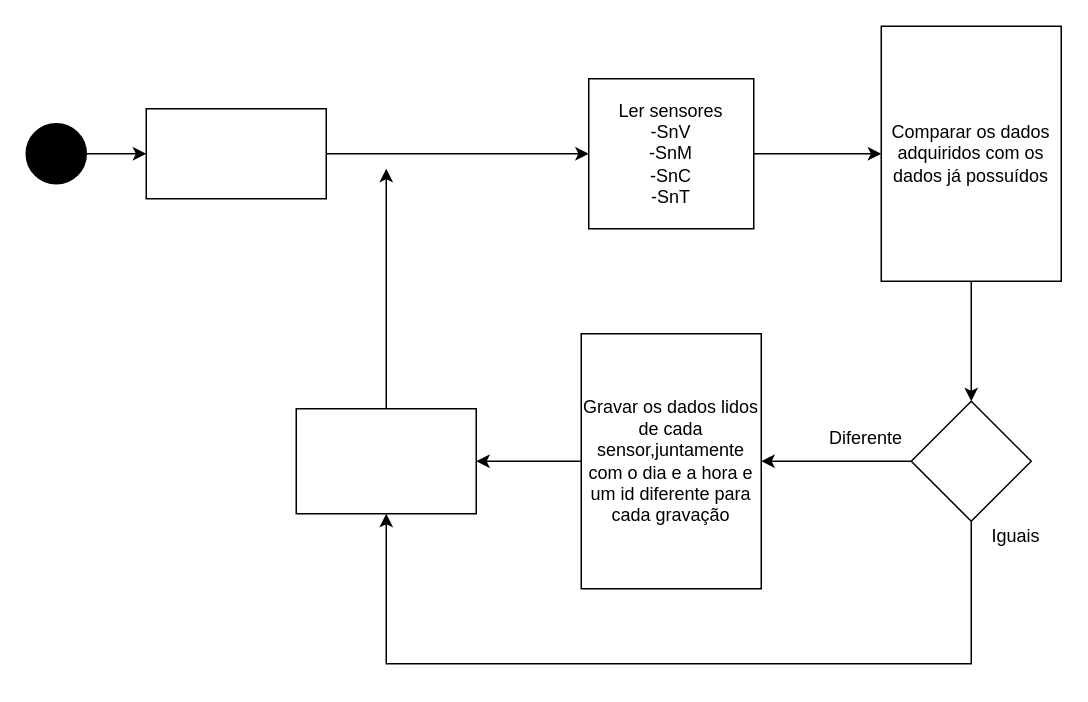
This 1088x702 diagram has some shape labels left out. Each missing label, with the centre of its shape:
Delay 5 minutos para a próxima análise: pixel 385 460
Ligar o Microcontrolador Ter um banco de dados: pixel 235 153
